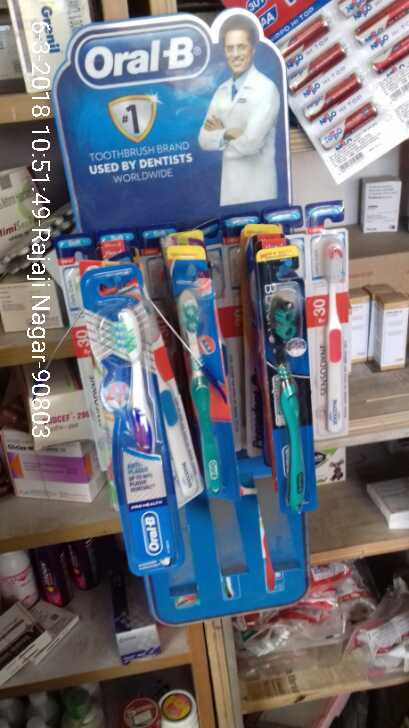oralb: (75, 263, 186, 571), (162, 245, 245, 499), (251, 242, 319, 513)
